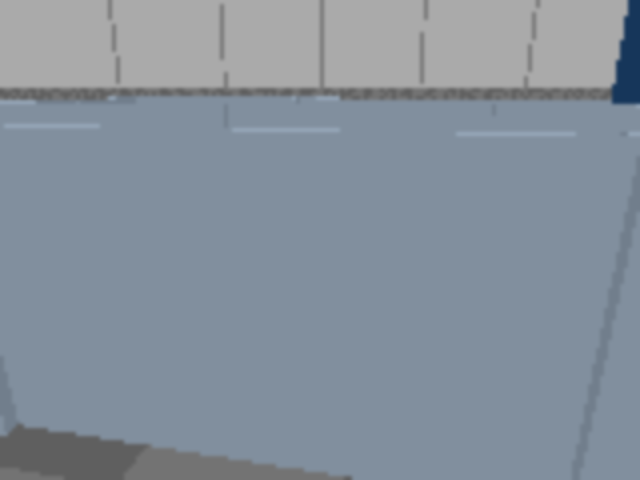person: (591, 0, 638, 253)
